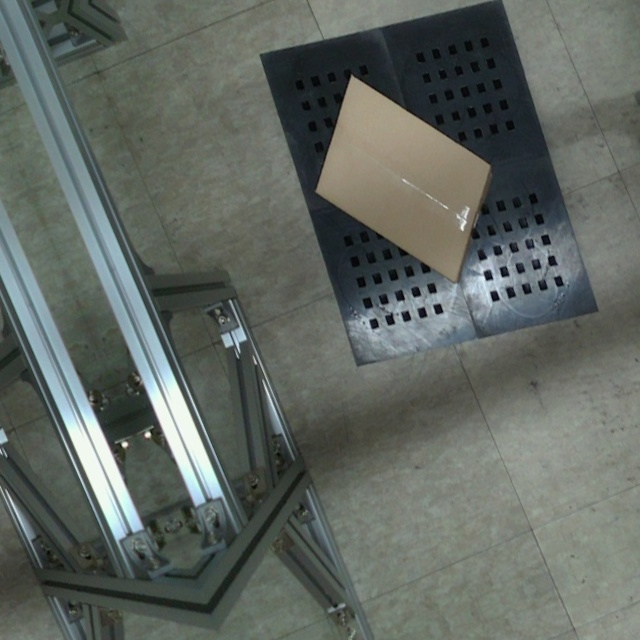box: (313, 73, 494, 284)
pallet: (252, 0, 605, 375)
